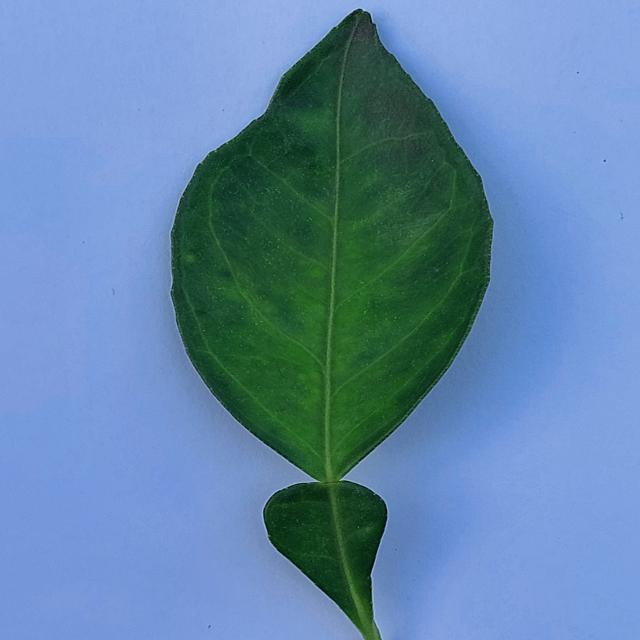greening: (171, 10, 492, 481)
